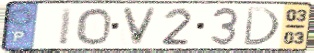2: (160, 6, 194, 47)
3: (208, 5, 241, 47)
D: (241, 6, 282, 47)
I: (57, 6, 76, 47)
O: (75, 6, 113, 46)
V: (120, 6, 161, 47)
